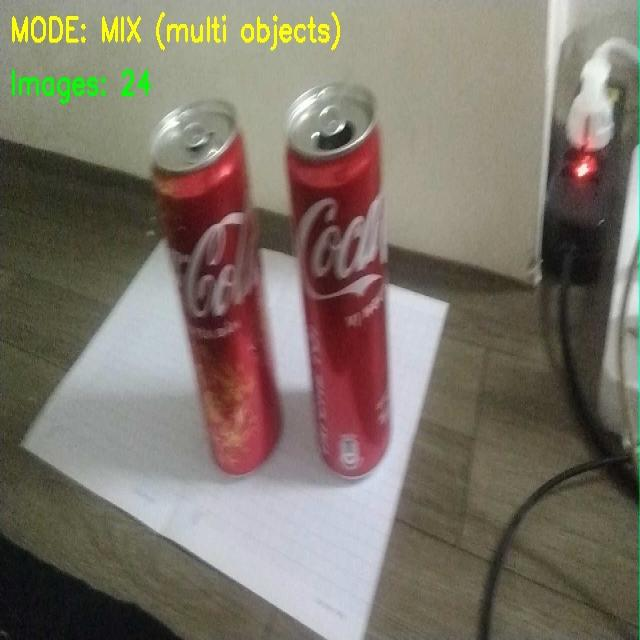Coca: (127, 88, 283, 480)
Coca_open: (284, 76, 438, 475)
